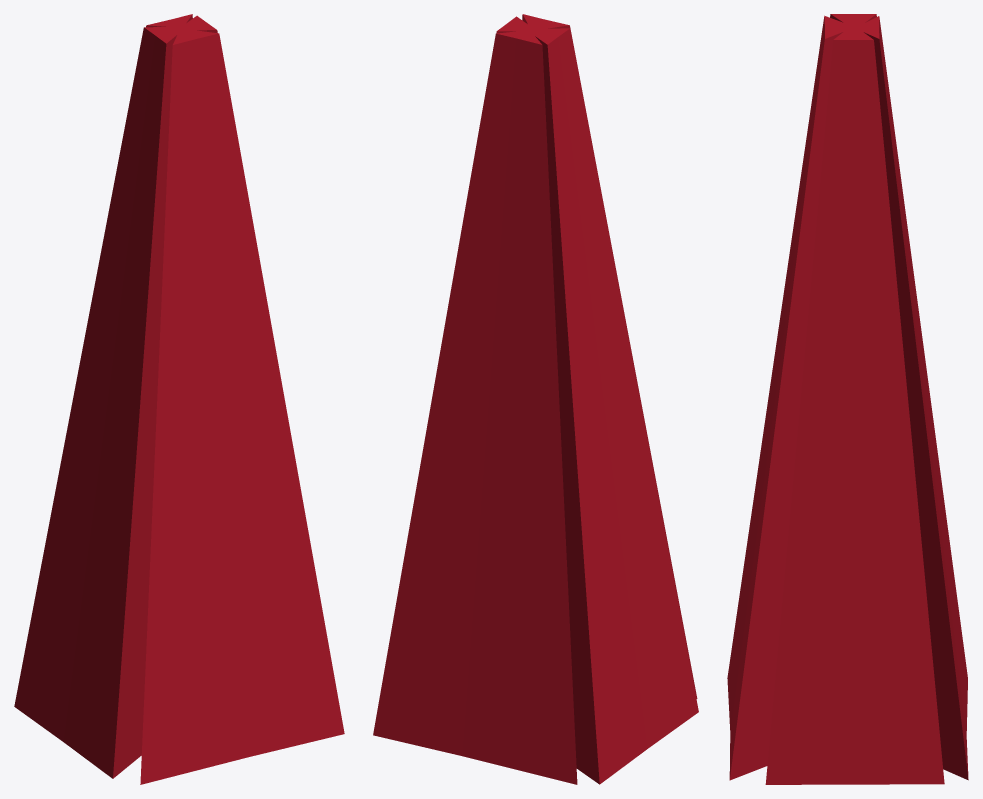
File: tree-dead-leaves-008.glb
The picture shows the model from 3 angles, left to right: view 1: azimuth 30°, elevation 25°; view 2: azimuth 150°, elevation 25°; view 3: azimuth 270°, elevation 25°; orthographic projection. The views are drawn at different scales.
Parts seen in each view (by area): view 1: Circle.050_436; view 2: Circle.050_436; view 3: Circle.050_436.
Part boxes in pixels (<box>): Circle.050_436: <box>14,14,344,784</box>; Circle.050_436: <box>373,14,698,784</box>; Circle.050_436: <box>727,14,968,784</box>.
Bounding box in the file's own units: 0.5359 × 1.54 × 0.4779.
